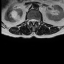CCS_normal: (32, 16, 34, 26)
LFS_normal: (36, 18, 38, 23)
LLS_normal: (34, 17, 36, 23)
RFS_normal: (28, 17, 30, 23)
RLS_normal: (30, 17, 32, 23)
